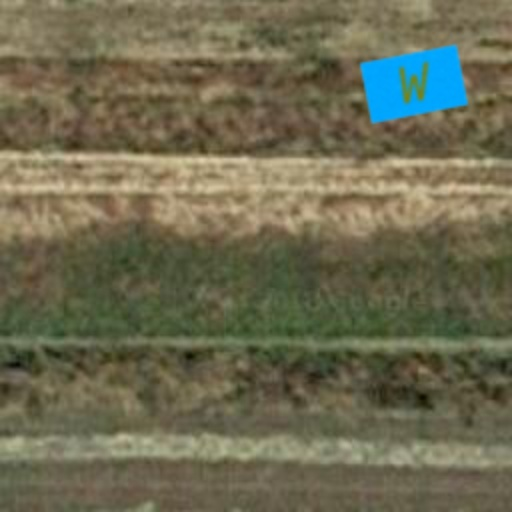rectangle: (356, 26, 472, 142)
